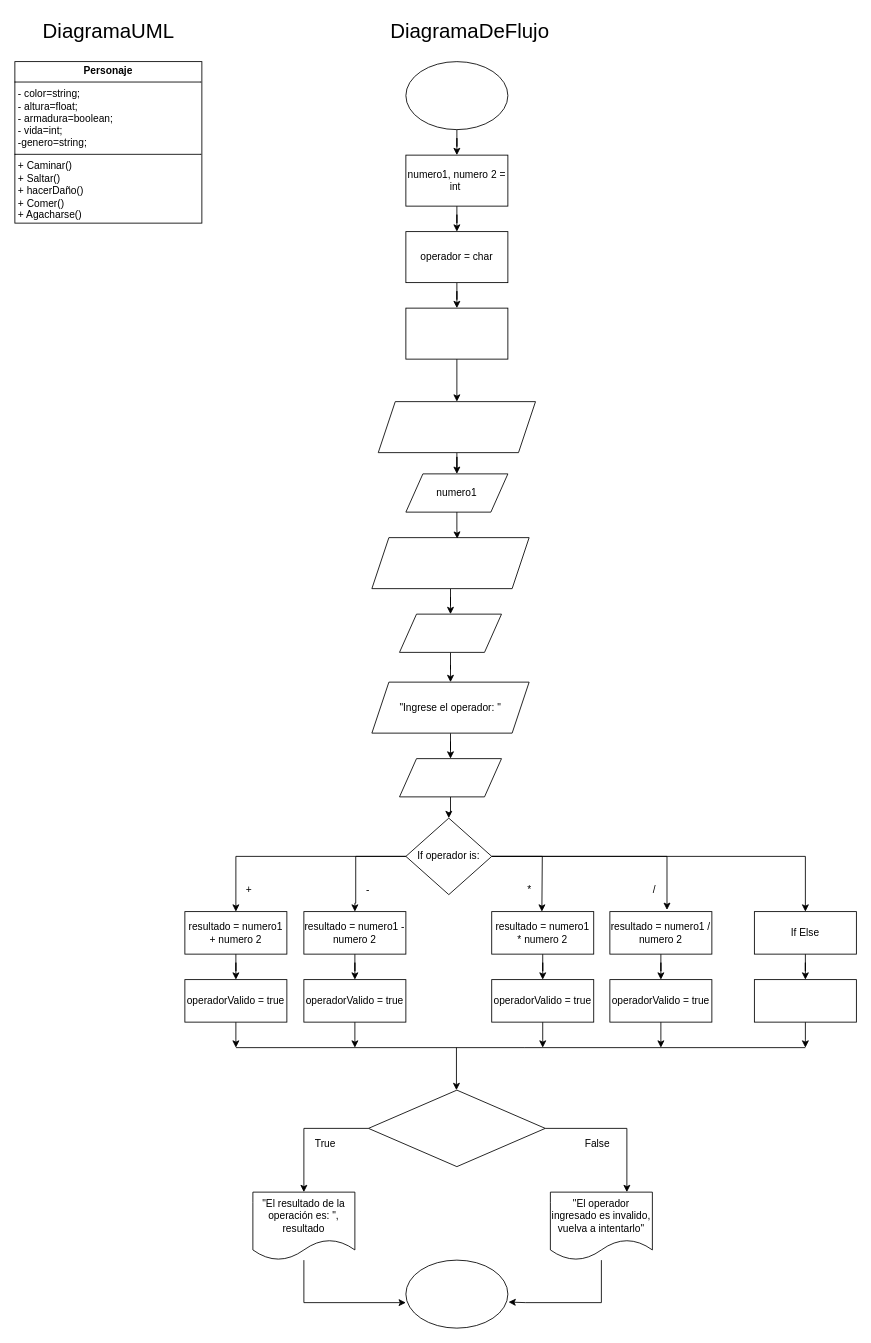
This 871x1343 diagram has some shape labels left out. The shapes that lost their labels are listed below. From the top down, each one's centre as x and y in pixels, then its label:
[456,95]: Inicio // Algoritmo MiniCalculadora
[456,333]: operadorValido = boolean
[456,427]: "Ingrese el primer número: "
[450,563]: "Ingrese el segundo número: "
[450,632]: numero2
[450,777]: operador
[805,1000]: operadorValido = false
[456,1128]: operadorValido
[456,1293]: Fin
